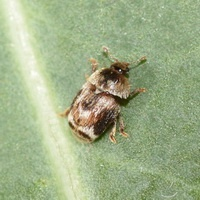insect: (60, 47, 146, 142)
